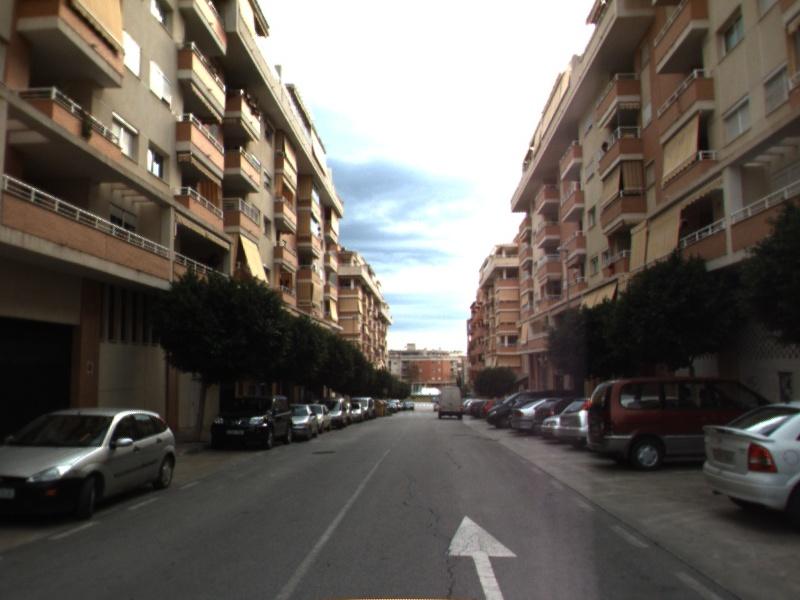STRAIGHT: (441, 512, 521, 600)
